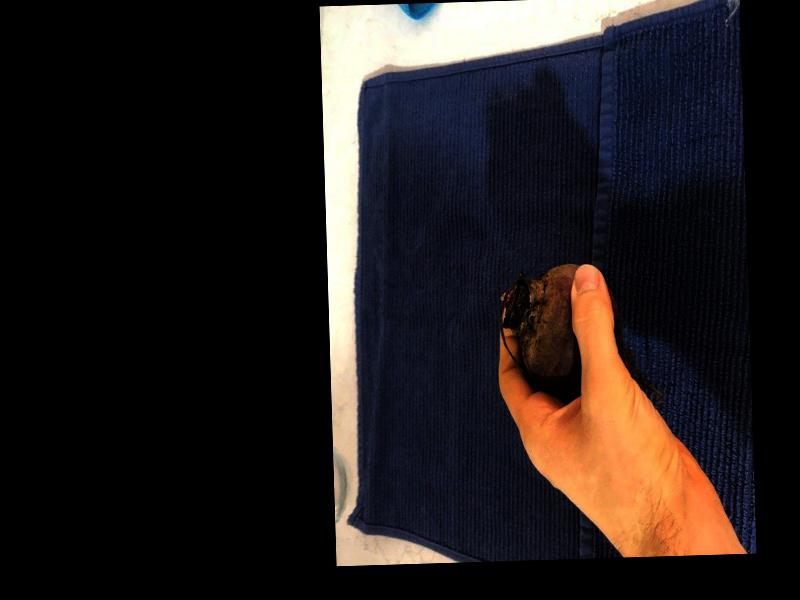Beet: (499, 260, 666, 401)
